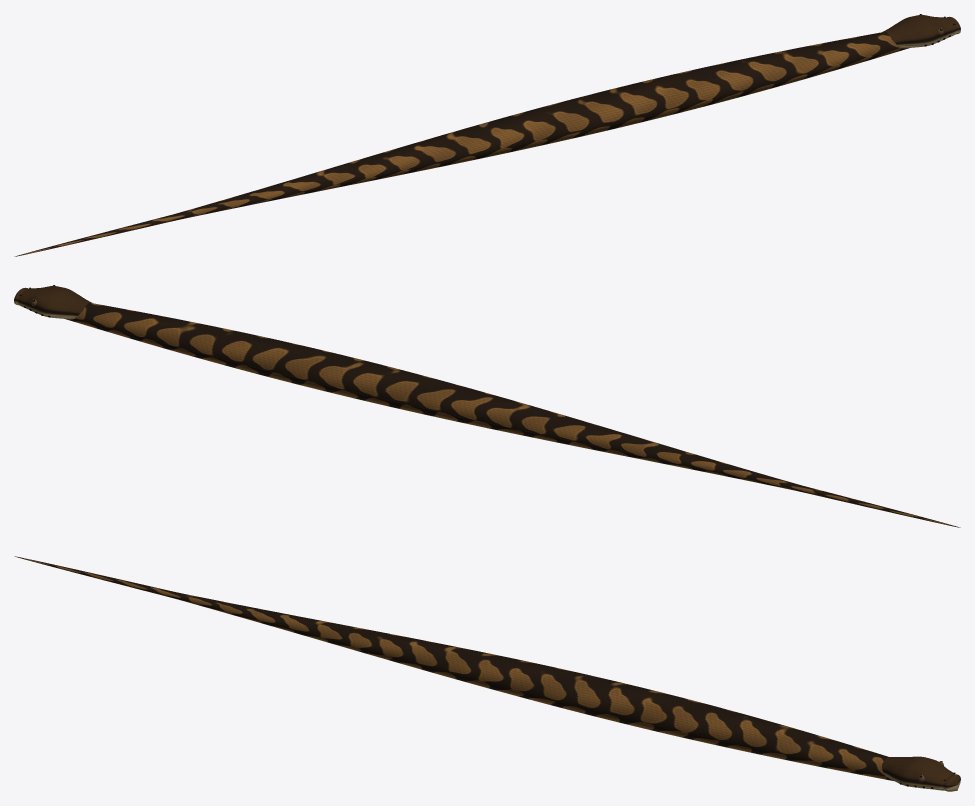
Rendered from python.glb.
3 renders of one model, top to bottom at view 1: azimuth 30°, elevation 25°; view 2: azimuth 150°, elevation 25°; view 3: azimuth 330°, elevation 25°, orthographic.
Visible parts, largest first — view 1: Body • UV production, Head • cranial and labial anatomy; view 2: Body • UV production, Head • cranial and labial anatomy; view 3: Body • UV production, Head • cranial and labial anatomy.
Boxes of the visible parts, bbox=[...] form: Body • UV production: bbox=[14, 32, 909, 256]; Head • cranial and labial anatomy: bbox=[883, 15, 960, 48]; Body • UV production: bbox=[65, 303, 960, 527]; Head • cranial and labial anatomy: bbox=[14, 286, 91, 319]; Body • UV production: bbox=[14, 556, 893, 780]; Head • cranial and labial anatomy: bbox=[882, 756, 960, 791].
Size of the model in its own units: 572 by 18.52 by 27.04.
4 materials, 1 textured.
